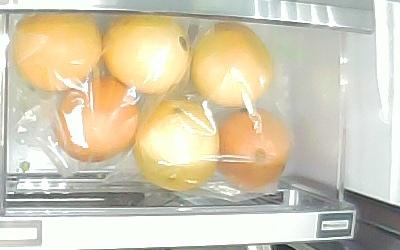grapefruit_vinyl: (132, 100, 219, 193), (12, 10, 102, 95), (54, 75, 139, 164), (103, 12, 191, 96), (191, 21, 274, 110), (218, 109, 292, 191)
